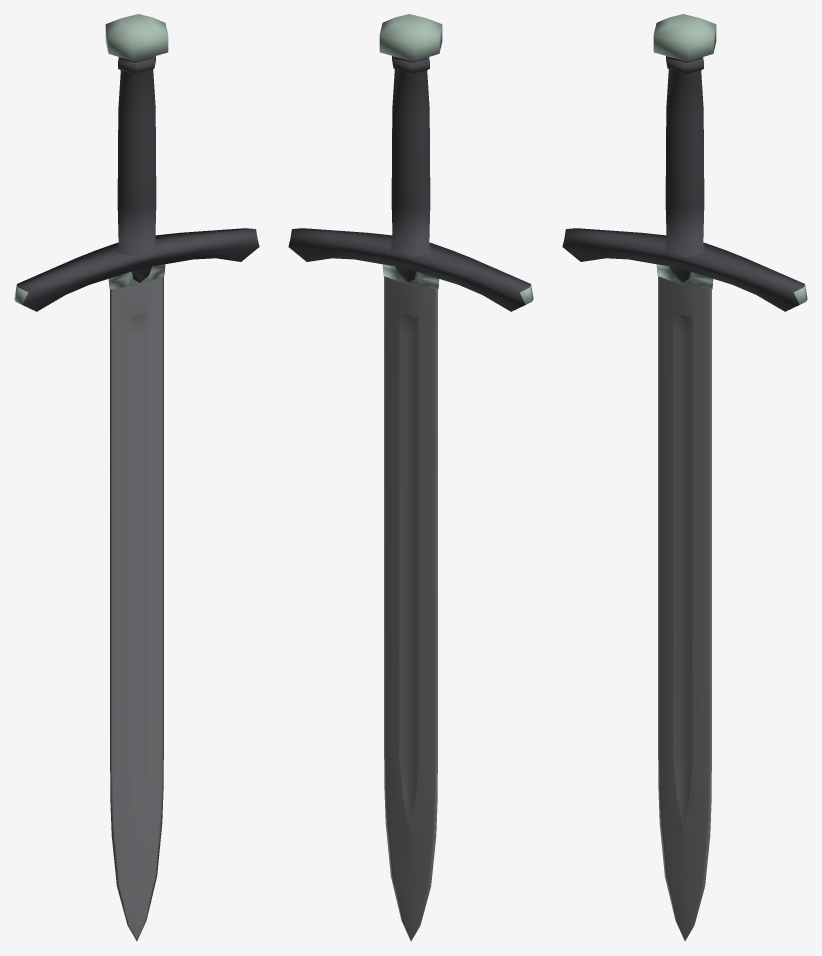
File: SM_Sword.fbx
The picture shows the model from 3 angles, left to right: view 1: azimuth 30°, elevation 25°; view 2: azimuth 150°, elevation 25°; view 3: azimuth 330°, elevation 25°; orthographic projection.
Visible parts, largest first — view 1: SM_sword; view 2: SM_sword; view 3: SM_sword.
Boxes of the visible parts, x1,y1,x2,y2 form: SM_sword: (14,14,259,941); SM_sword: (288,14,533,941); SM_sword: (562,14,807,941).
Bounding box in the file's own units: 19.62 × 71.14 × 3.78.
